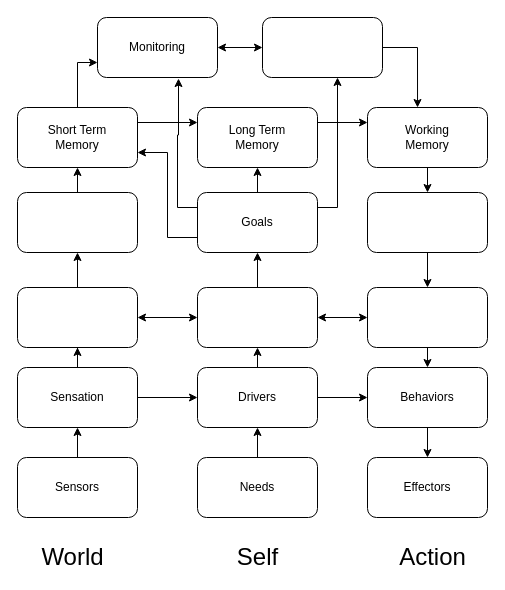
Some shapes in this 505 by 590 pixel diagram are drawn without their labels. Here are the shapes that lost their labels. From the top down, the box of each, then its label:
(262, 16, 382, 78): Auto-biographical Memory
(16, 192, 138, 252): Episodic / Event Memory
(366, 192, 488, 252): Plans
(16, 286, 138, 348): Perception
(196, 286, 318, 348): Value
(366, 286, 488, 348): Action Selection
